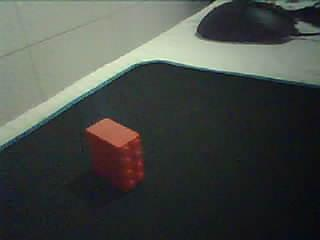lego: (82, 117, 146, 191)
